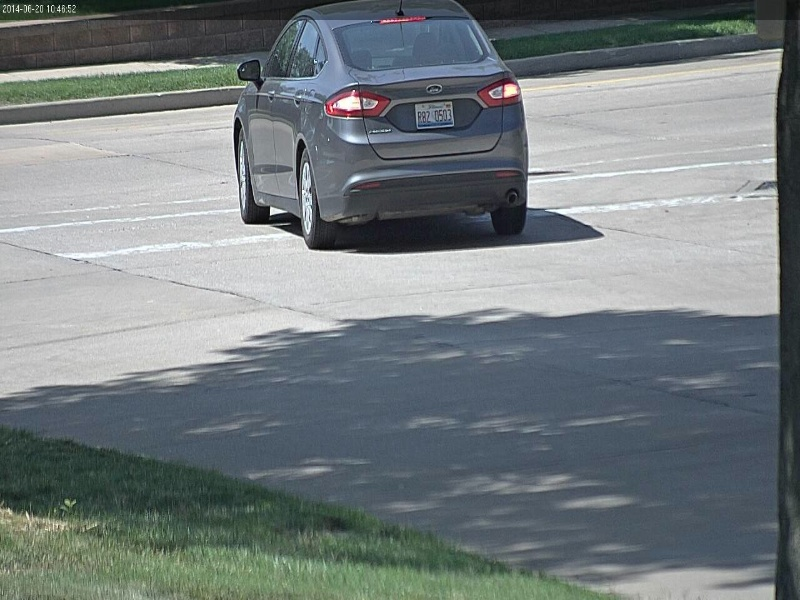licence plate: (413, 100, 456, 128)
